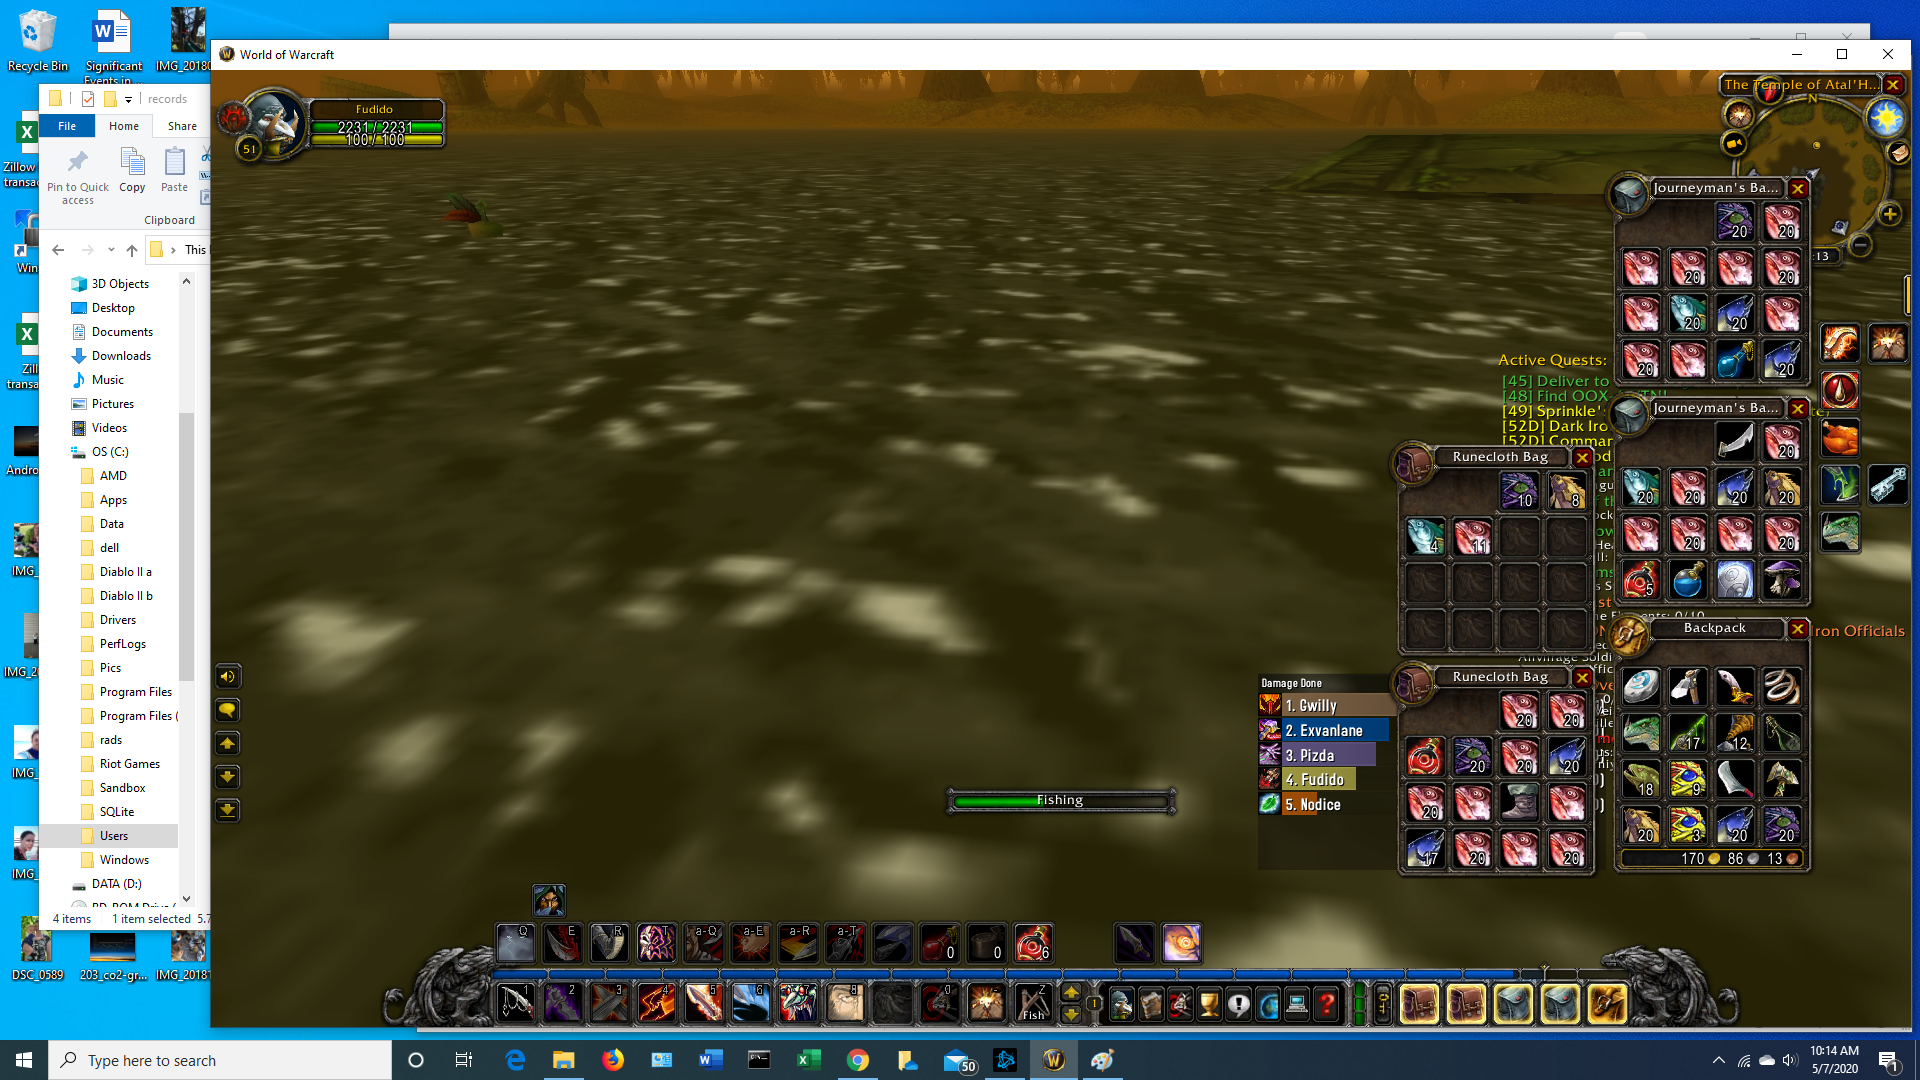bobber: (438, 185, 506, 245)
